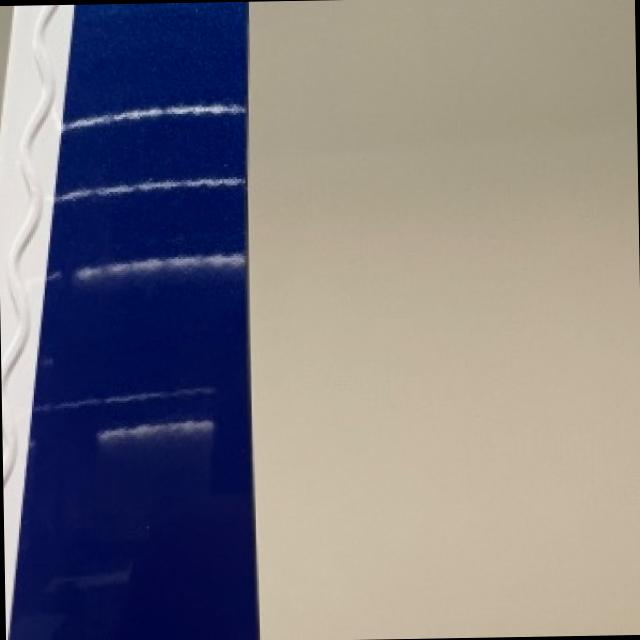healthy: (12, 1, 257, 640)
